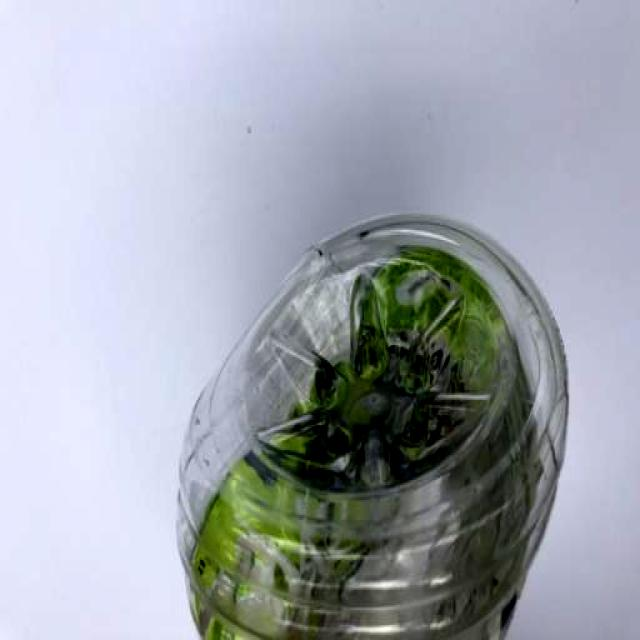Plastic: (170, 201, 578, 640)
